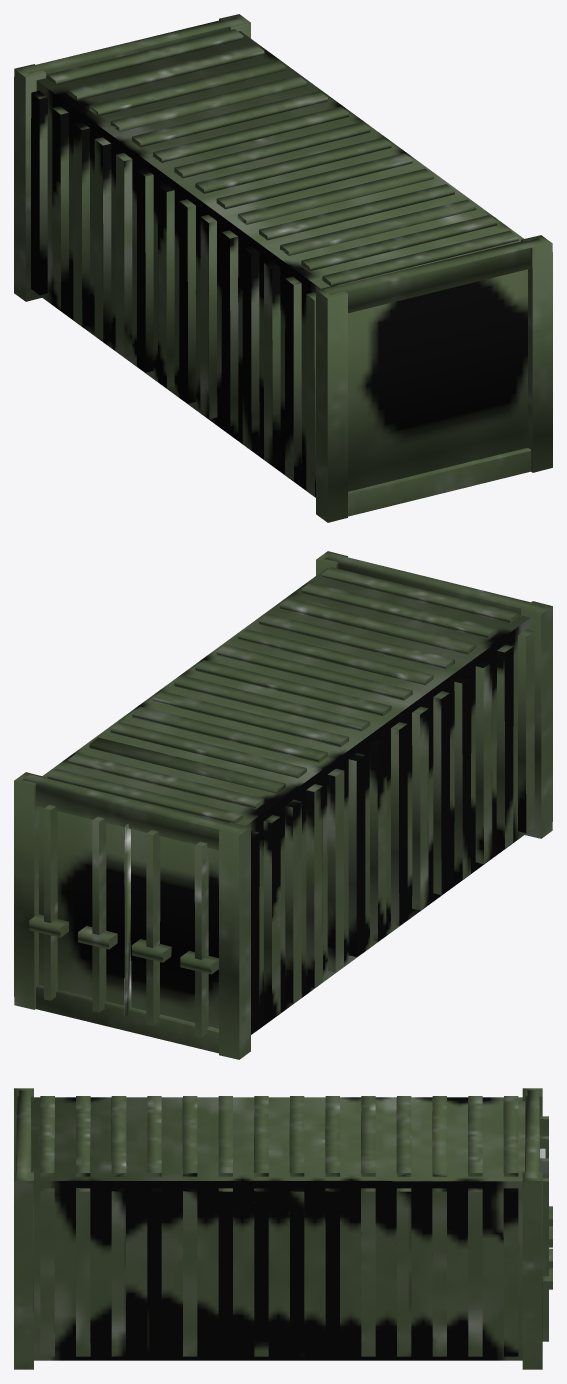
File: Contenedor_Verde.fbx
3 views of the same model, one above another, from view 1: azimuth 30°, elevation 25°; view 2: azimuth 150°, elevation 25°; view 3: azimuth 270°, elevation 25° (orthographic). The views are drawn at different scales.
Parts seen in each view (by area): view 1: Contenedor_Verde; view 2: Contenedor_Verde; view 3: Contenedor_Verde.
Part boxes in pixels (box(x1,y1,x2,y2)): Contenedor_Verde: box(14, 14, 552, 522); Contenedor_Verde: box(14, 551, 552, 1059); Contenedor_Verde: box(14, 1088, 552, 1369).
Size of the model in its own units: 4.18 by 4 by 10.28.
